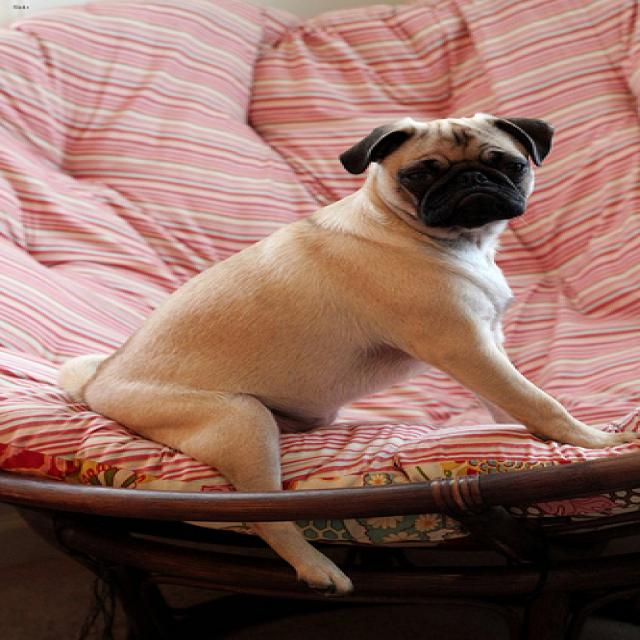dog-pug: (40, 105, 636, 502)
